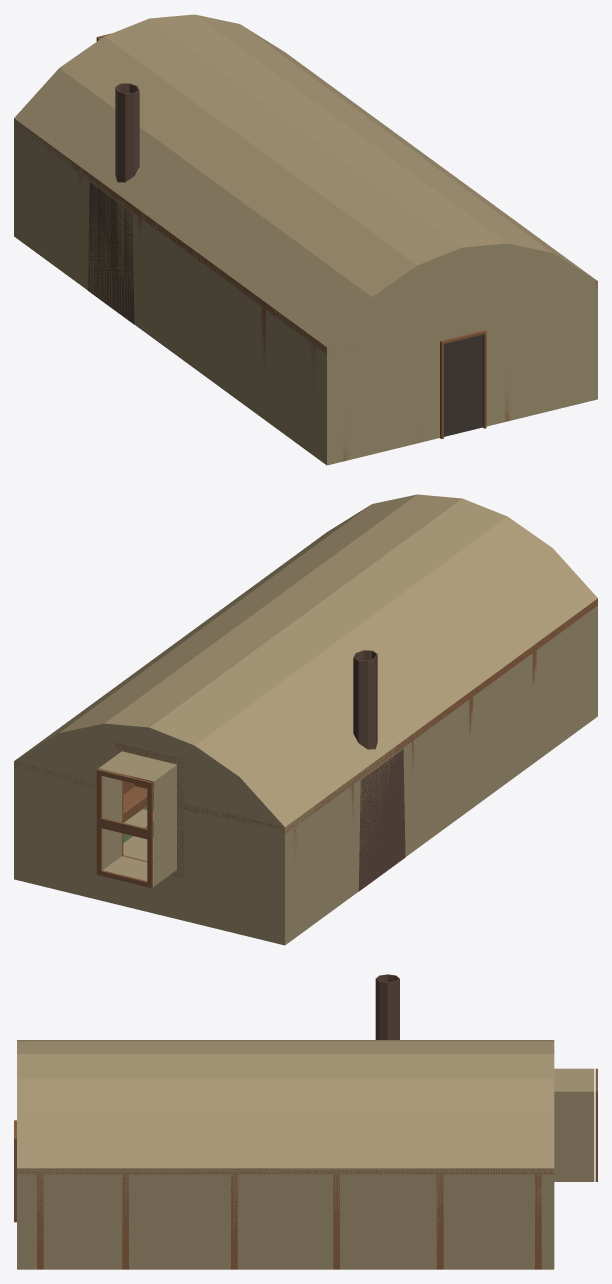
The model's file is Kitchen.fbx.
The picture shows the model from 3 angles, top to bottom: view 1: azimuth 30°, elevation 25°; view 2: azimuth 150°, elevation 25°; view 3: azimuth 270°, elevation 25°; orthographic projection. The views are drawn at different scales.
Visible parts, largest first — view 1: WallsCeiling, polySurface154, pPlane6, Framework1, polySurface156, DoorFrame; view 2: WallsCeiling, polySurface154, Framework1, PH_Window, polySurface156, Floor, Closet3; view 3: WallsCeiling, Framework1, polySurface156.
Part boxes in pixels (box(x1,y1,x2,y2)): WallsCeiling: box(14, 14, 597, 465); polySurface154: box(87, 182, 134, 324); pPlane6: box(444, 334, 482, 436); Framework1: box(14, 118, 597, 461); polySurface156: box(115, 83, 139, 182); DoorFrame: box(440, 330, 486, 438); WallsCeiling: box(14, 494, 597, 945); polySurface154: box(358, 749, 405, 891); Framework1: box(14, 598, 597, 878); PH_Window: box(96, 769, 153, 888); polySurface156: box(353, 650, 377, 749); Floor: box(123, 801, 153, 862); Closet3: box(123, 774, 153, 822); WallsCeiling: box(17, 1040, 594, 1269); Framework1: box(17, 1168, 554, 1269); polySurface156: box(375, 974, 399, 1039).
Size of the model in its own units: 600 by 455 by 1304.
